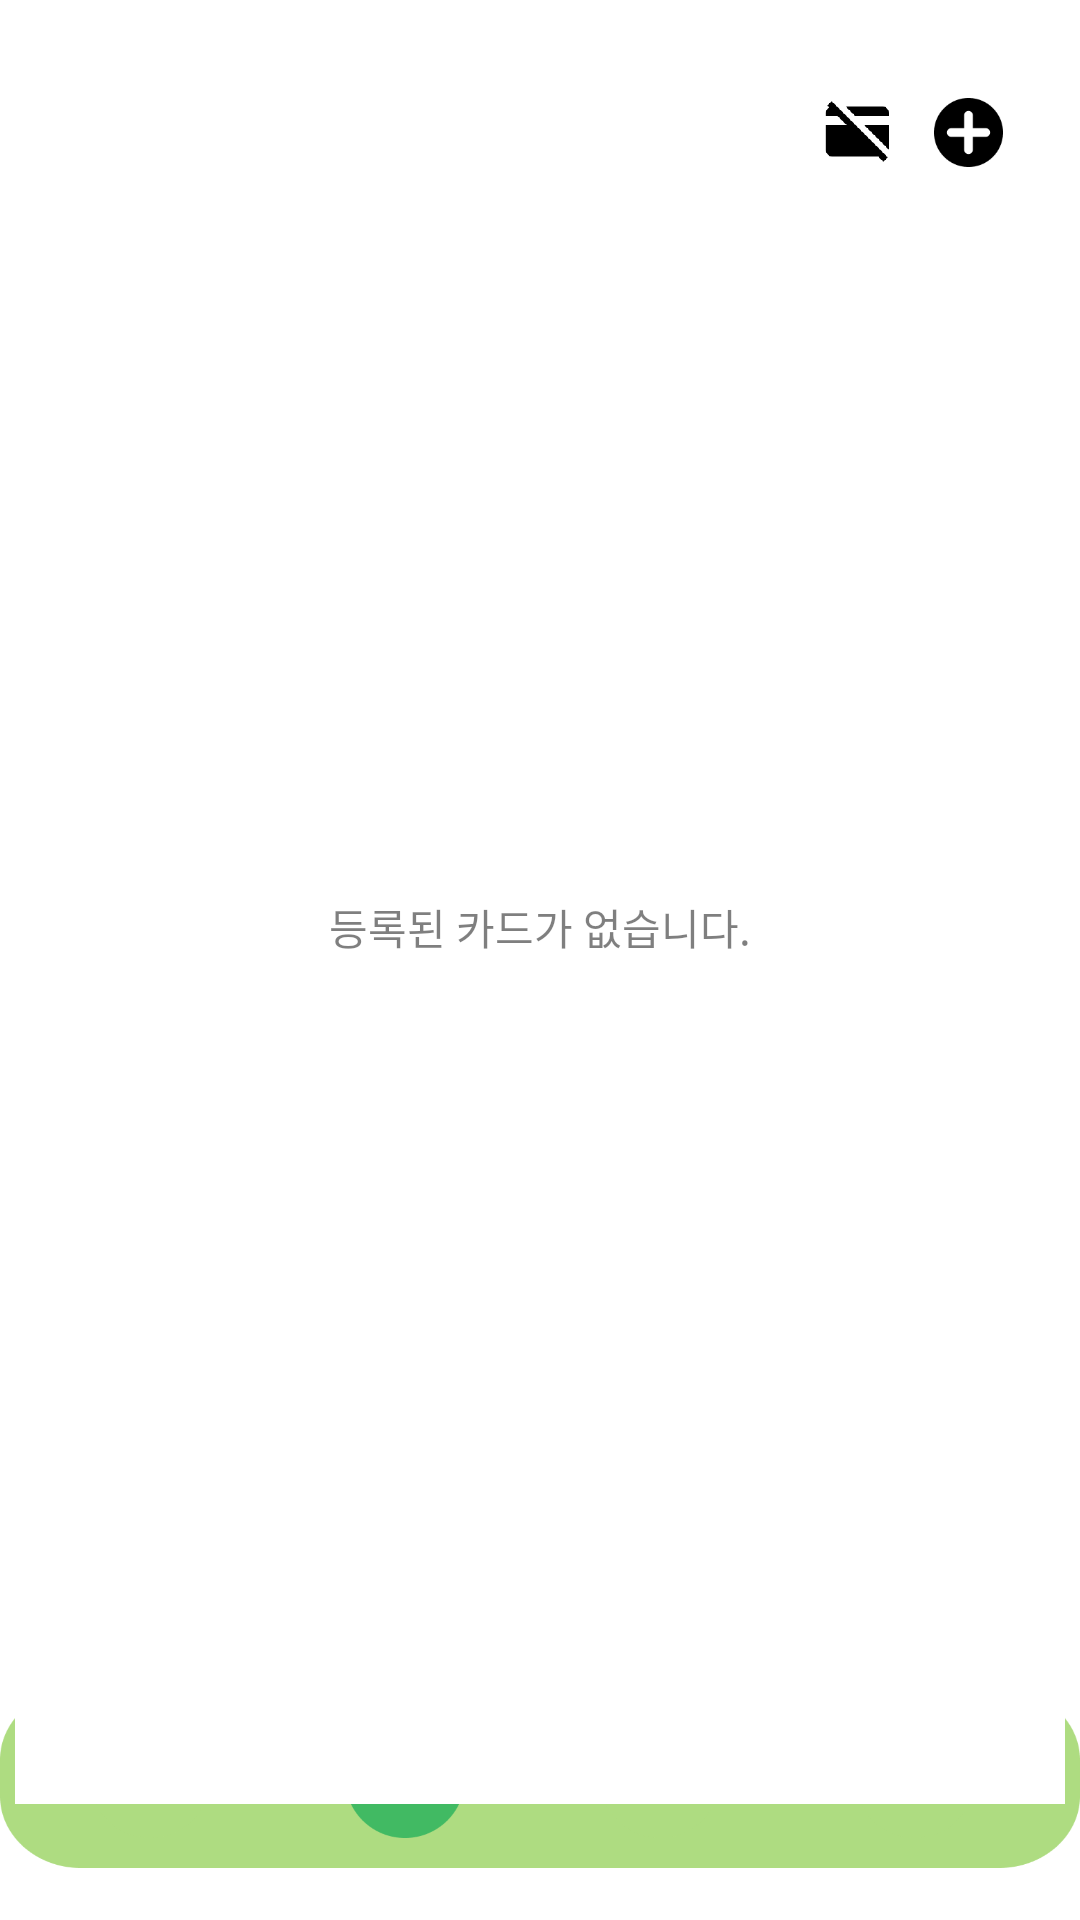

Point at icon controls on the screen. Image size 1080×1920, points as (x=x, y=y).
delete allcards: (x=857, y=131)
